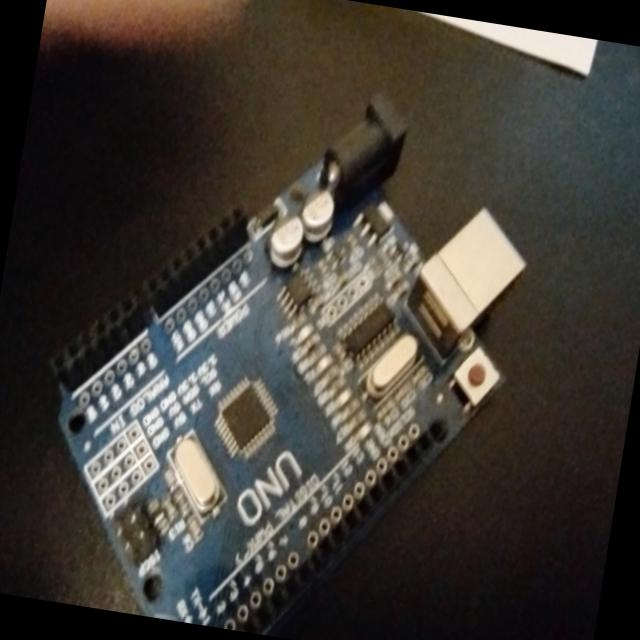arduino: (0, 46, 554, 640)
